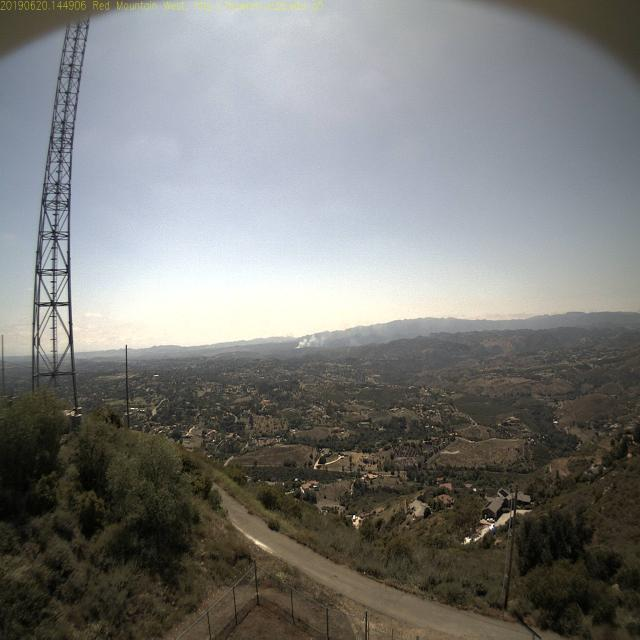smoke: (290, 333, 320, 357)
